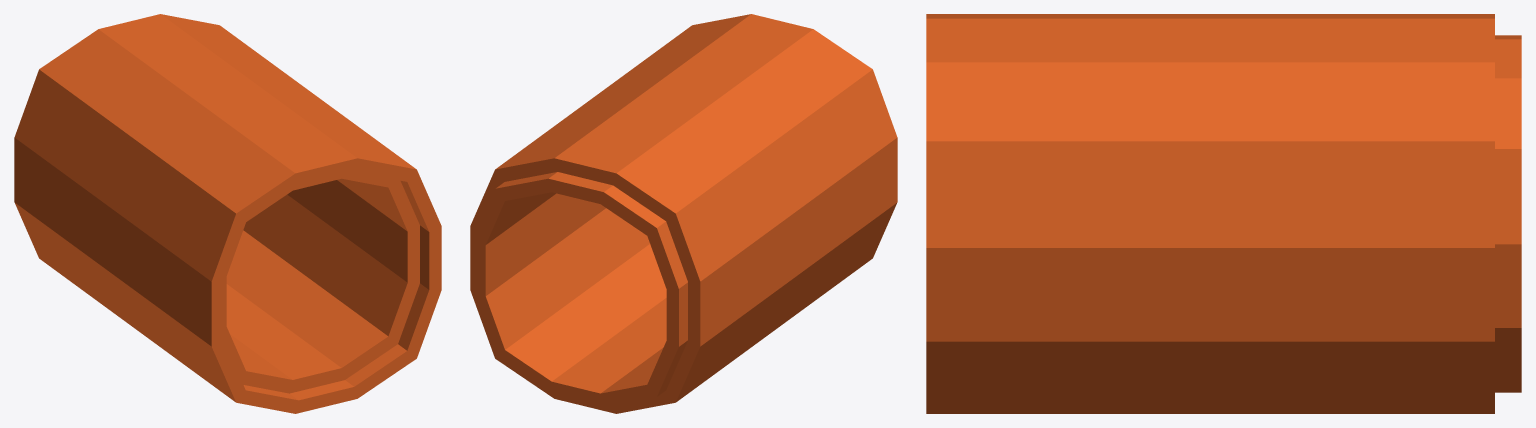
The picture shows the model from 3 angles, left to right: view 1: azimuth 30°, elevation 25°; view 2: azimuth 150°, elevation 25°; view 3: azimuth 270°, elevation 25°; orthographic projection. The views are drawn at different scales.
Visible parts, largest first — view 1: I-38; view 2: I-38; view 3: I-38.
Boxes of the visible parts, x1,y1,x2,y2 form: I-38: [14, 14, 441, 413]; I-38: [470, 14, 897, 413]; I-38: [926, 14, 1521, 413].
Size of the model in its own units: 143 by 143 by 222.
